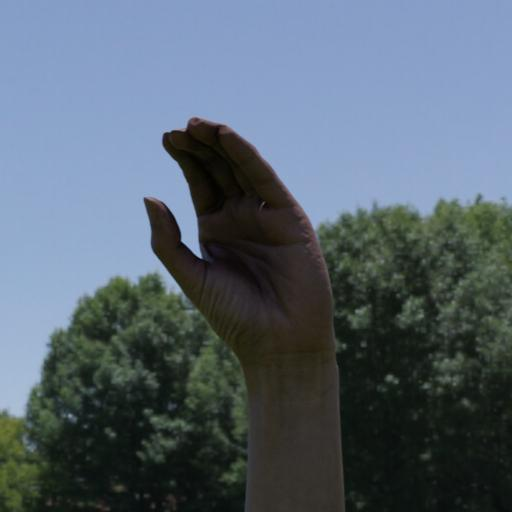C: (130, 106, 358, 390)
